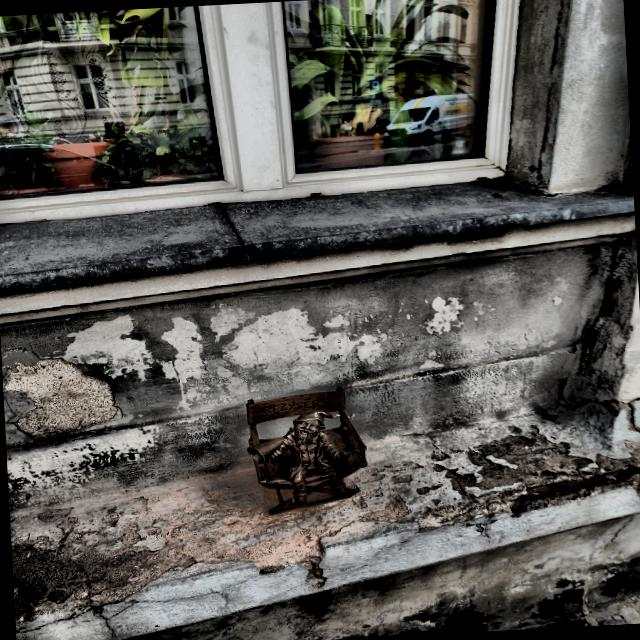Rezyser: (246, 387, 368, 514)
